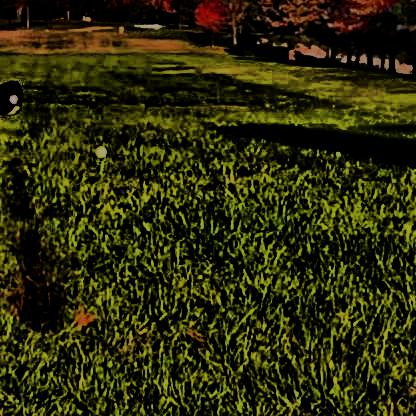golfball: (92, 143, 106, 157)
